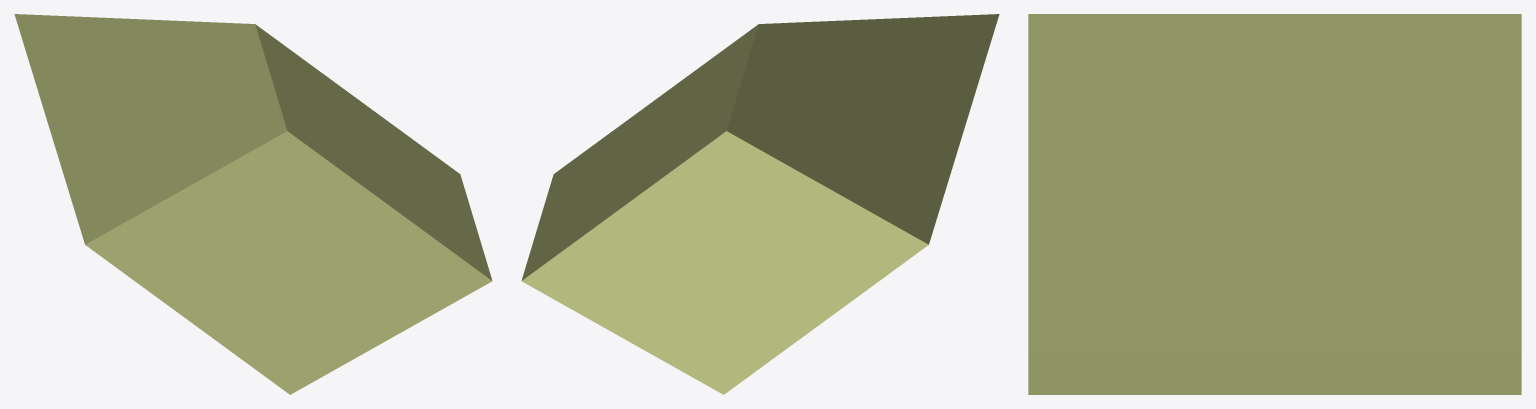
The picture shows the model from 3 angles, left to right: view 1: azimuth 30°, elevation 25°; view 2: azimuth 150°, elevation 25°; view 3: azimuth 270°, elevation 25°; orthographic projection. The views are drawn at different scales.
Visible parts, largest first — view 1: 0_1_3_2_2_2_0_1_0_1_2; view 2: 0_1_3_2_2_2_0_1_0_1_2; view 3: 0_1_3_2_2_2_0_1_0_1_2.
Boxes of the visible parts, x1=… form: 0_1_3_2_2_2_0_1_0_1_2: x1=14, y1=14, x2=492, y2=394; 0_1_3_2_2_2_0_1_0_1_2: x1=521, y1=14, x2=999, y2=394; 0_1_3_2_2_2_0_1_0_1_2: x1=1028, y1=14, x2=1521, y2=394.
Size of the model in its own units: 6.91 by 6 by 9.
